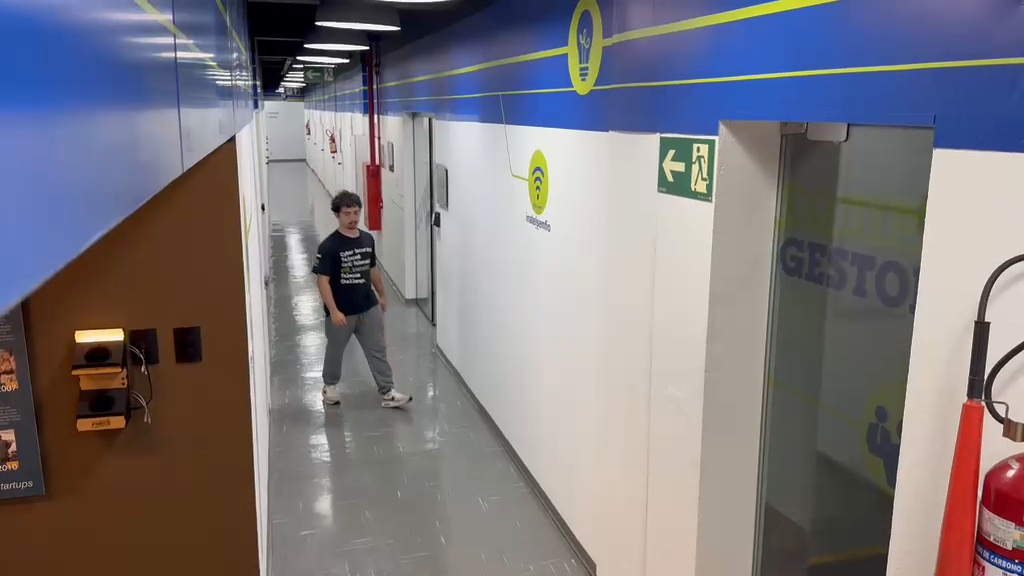person: (312, 191, 413, 411)
